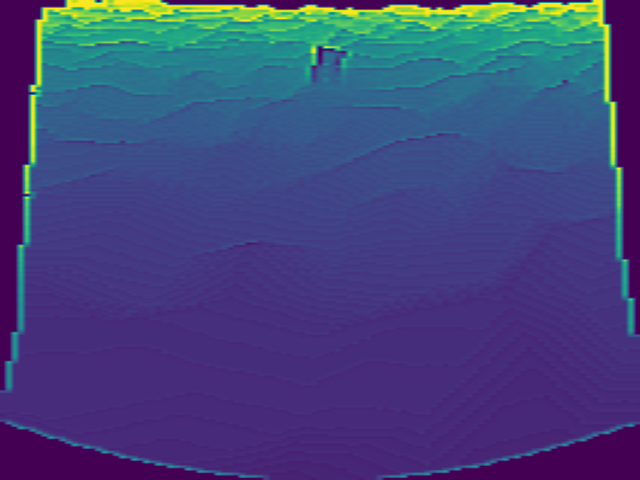car_0198: (307, 42, 348, 86)
